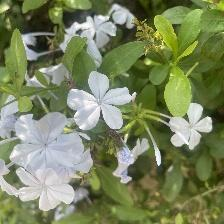chitrak: (13, 112, 86, 169), (68, 71, 130, 132), (18, 167, 78, 213), (169, 103, 213, 149)
